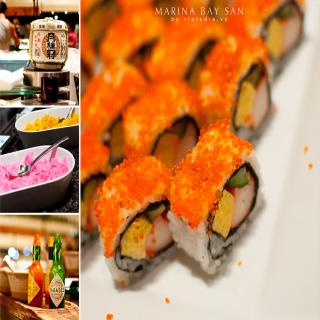Sushi: (80, 0, 304, 290), (81, 0, 305, 274), (94, 152, 178, 290)
